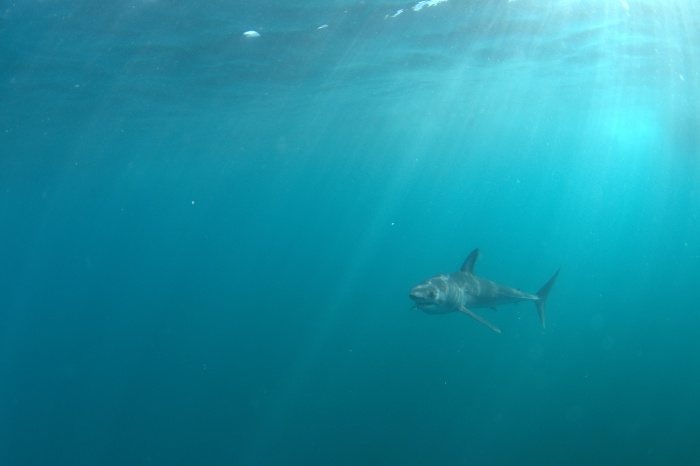Mako: (392, 240, 570, 340)
